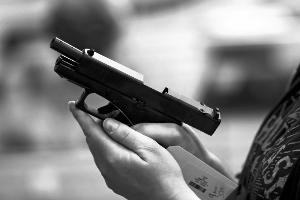handgun: (46, 26, 230, 149)
